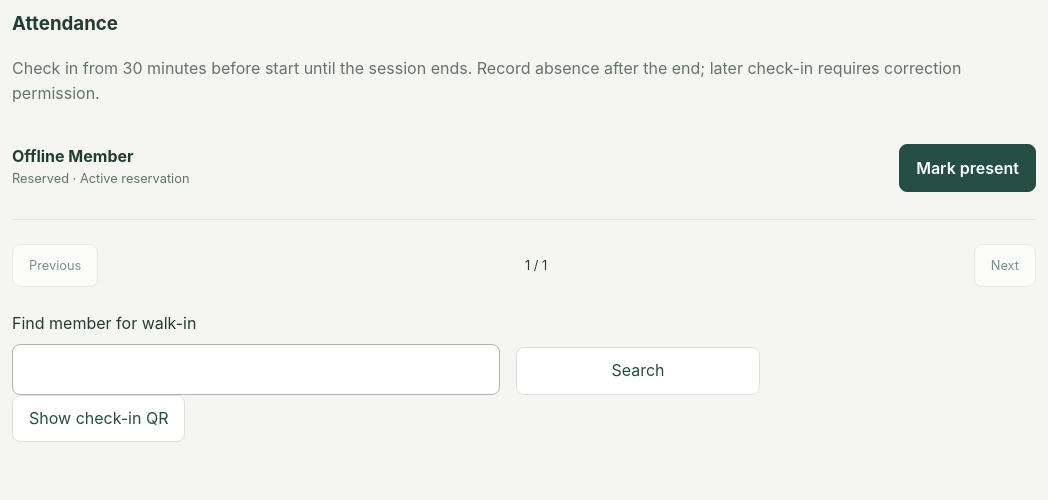
marks offline member present in one click
Click the button "Mark present": (968, 168) x1=899 y1=144 x2=1036 y2=192
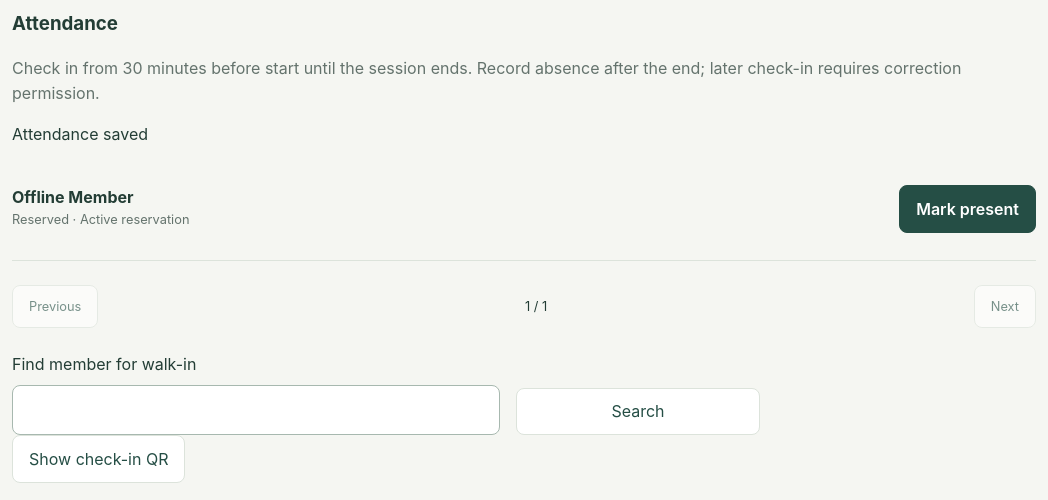
Result: the message reads "Attendance saved" at x1=12 y1=124 x2=148 y2=144
